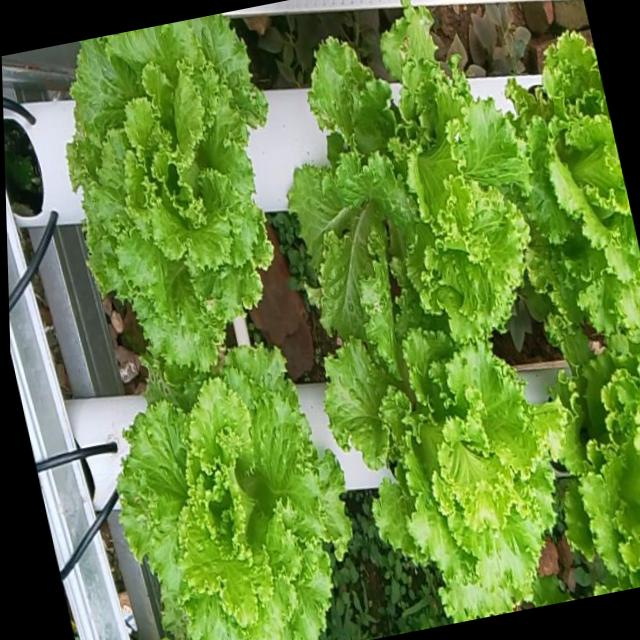Mature: (290, 8, 531, 360), (68, 15, 274, 373), (325, 328, 567, 623), (118, 345, 352, 640), (118, 347, 352, 640)
